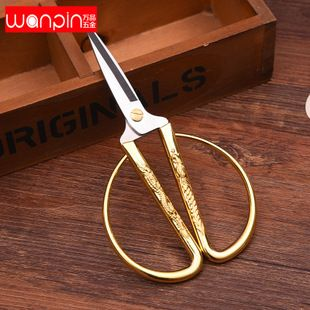scissor: (88, 33, 257, 282)
